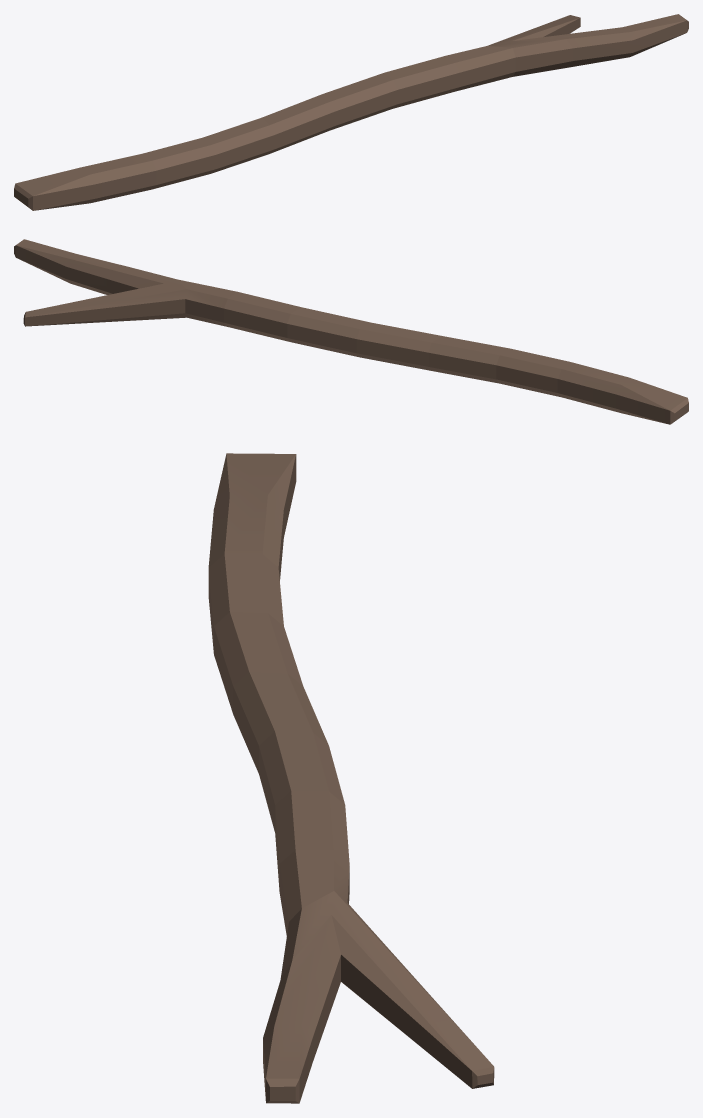
The model's file is Stick_01.fbx.
3 renders of one model, top to bottom at view 1: azimuth 30°, elevation 25°; view 2: azimuth 150°, elevation 25°; view 3: azimuth 270°, elevation 25°, orthographic. The views are drawn at different scales.
Parts seen in each view (by area): view 1: Stick_01; view 2: Stick_01; view 3: Stick_01.
Part boxes in pixels (box(x1,y1,x2,y2)): Stick_01: box(14, 14, 688, 210); Stick_01: box(14, 239, 688, 424); Stick_01: box(208, 453, 494, 1103).
Bounding box in the file's own units: 77.51 × 4.29 × 14.55.
